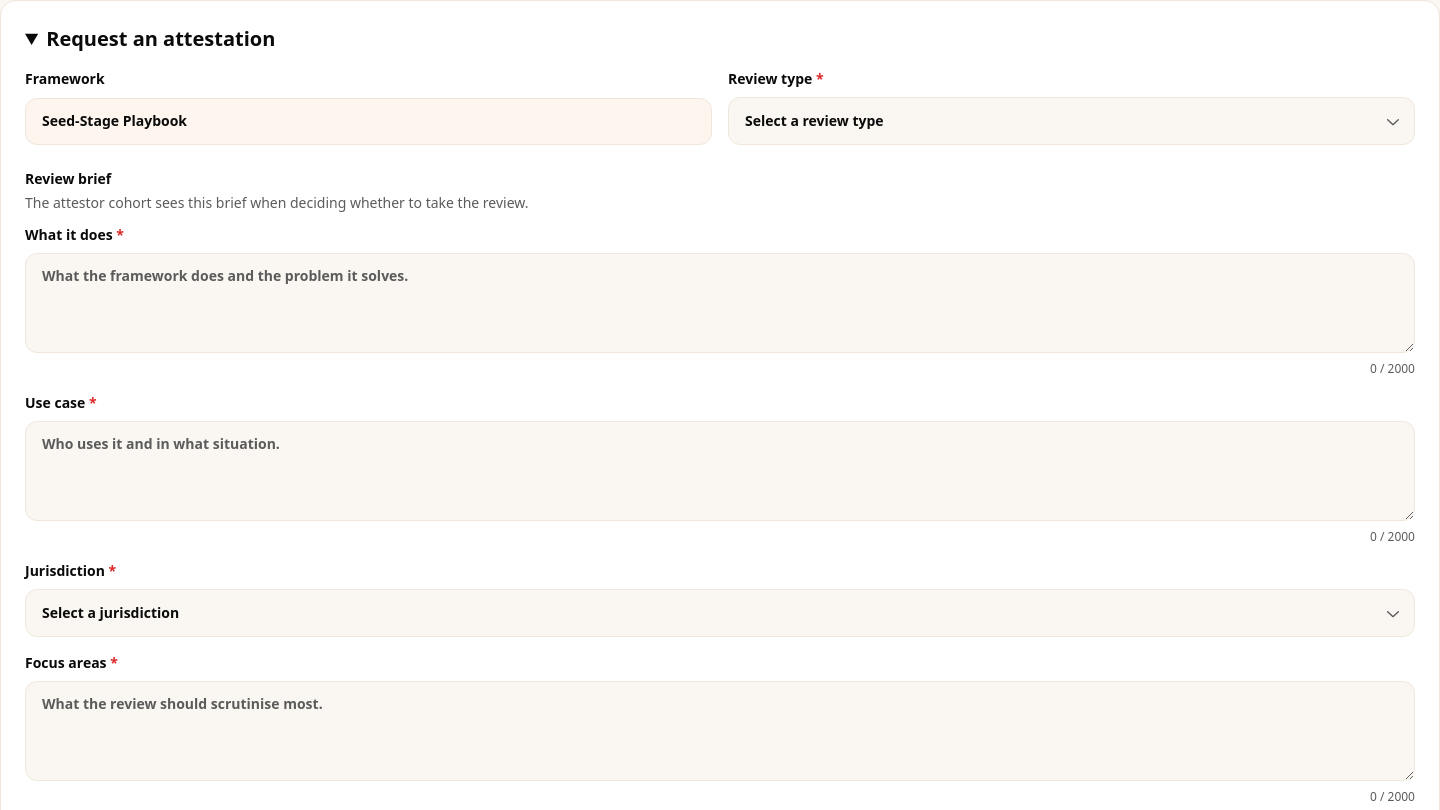
it: AttestationRequestForm brief limits › caps Use case at 2,000 characters with a live counter
Step 1. Type "Hello" into the text box labelled "Use case *" → [720, 471], box [25,421,1415,521]
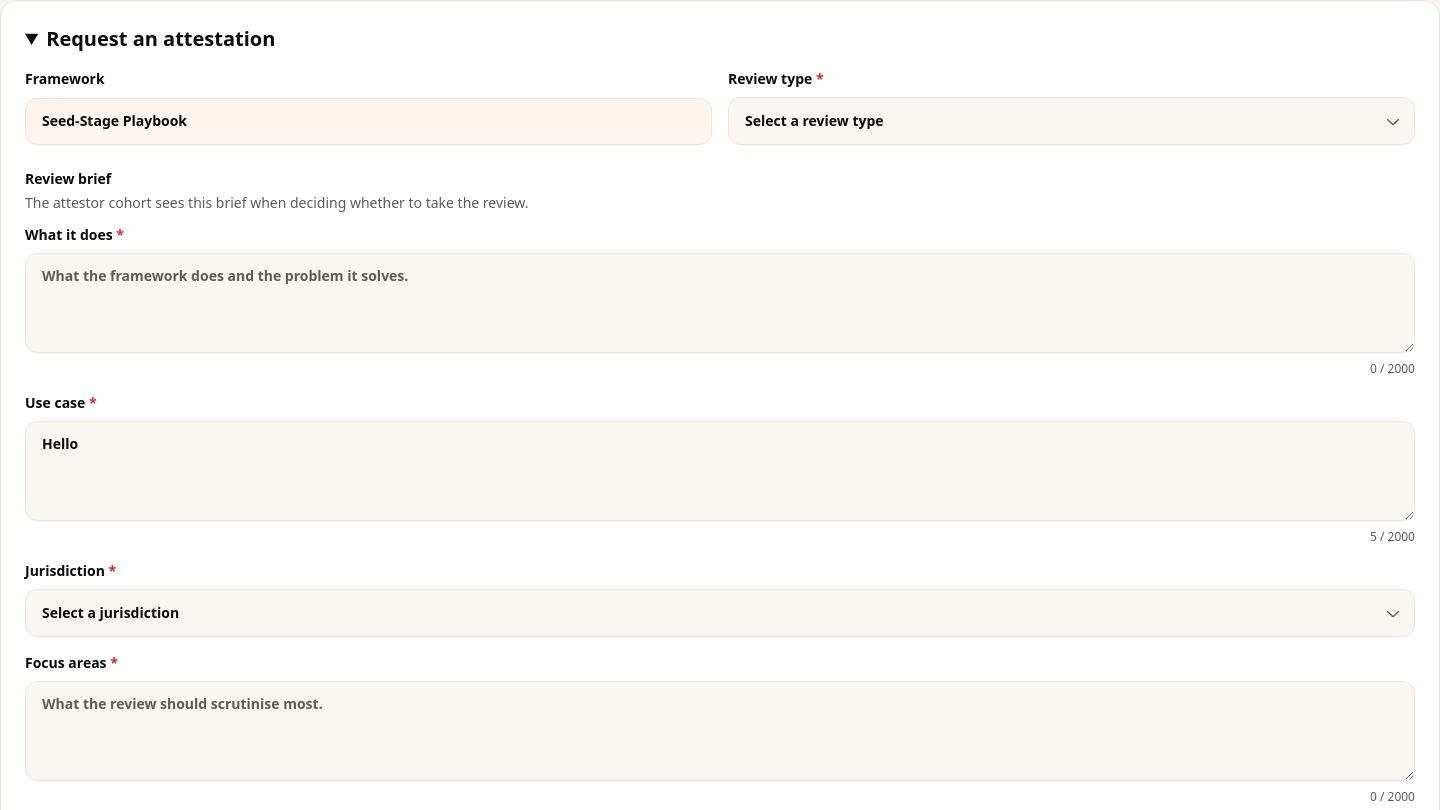
Expected: the text "5 / 2000" is shown, [1370,528,1415,545]
